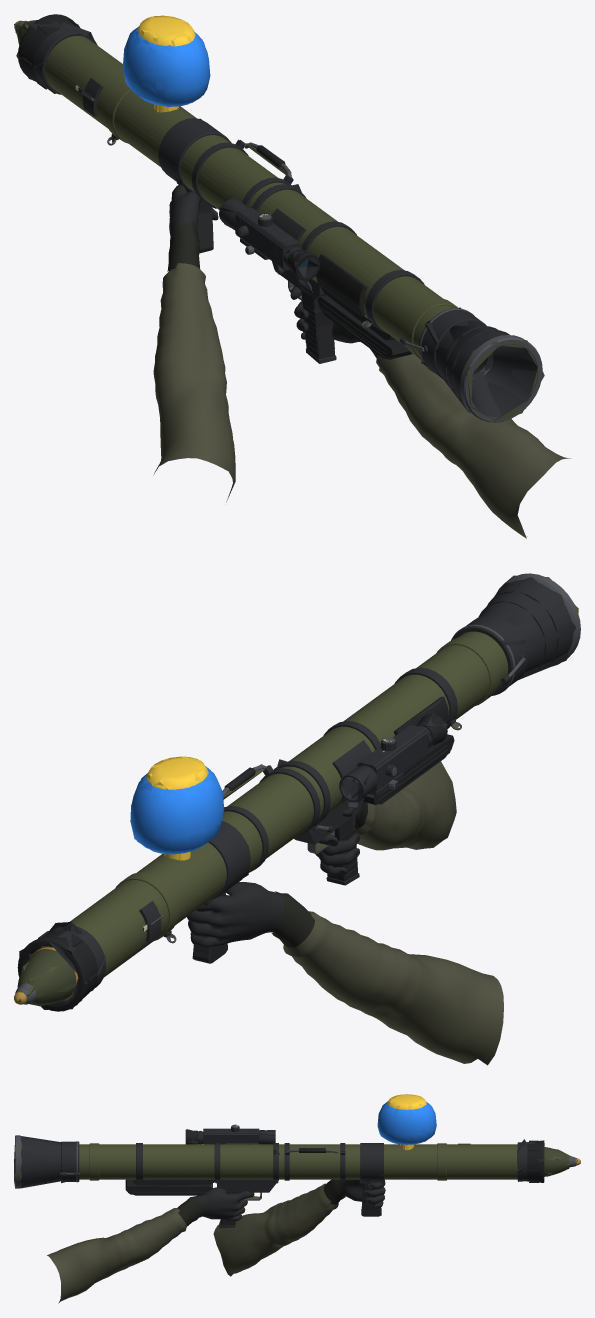
Rendered from gun-bazooka.glb.
The picture shows the model from 3 angles, top to bottom: view 1: azimuth 30°, elevation 25°; view 2: azimuth 150°, elevation 25°; view 3: azimuth 270°, elevation 25°; orthographic projection. The views are drawn at different scales.
Visible parts, largest first — view 1: bazooka_body, bazooka_far_body, bazooka_handL, bazooka_handR, bazooka_kit, bazooka_far_kit; view 2: bazooka_body, bazooka_handL, bazooka_far_body, bazooka_handR, bazooka_kit, bazooka_far_kit, bazooka_rocket; view 3: bazooka_body, bazooka_far_body, bazooka_handR, bazooka_handL, bazooka_kit, bazooka_far_kit, bazooka_rocket.
Boxes of the visible parts, <box> form: bazooka_body: <box>18,14,542,422</box>; bazooka_far_body: <box>14,20,544,421</box>; bazooka_handL: <box>153,184,235,502</box>; bazooka_handR: <box>290,279,571,538</box>; bazooka_kit: <box>123,15,210,112</box>; bazooka_far_kit: <box>123,16,209,112</box>; bazooka_body: <box>17,573,580,1011</box>; bazooka_handL: <box>187,882,503,1065</box>; bazooka_far_body: <box>15,575,578,1009</box>; bazooka_handR: <box>315,761,456,875</box>; bazooka_kit: <box>130,756,224,860</box>; bazooka_far_kit: <box>130,756,224,860</box>; bazooka_rocket: <box>14,946,78,1005</box>; bazooka_body: <box>15,1124,544,1228</box>; bazooka_far_body: <box>14,1125,580,1227</box>; bazooka_handR: <box>47,1187,254,1303</box>; bazooka_handL: <box>213,1179,385,1276</box>; bazooka_kit: <box>378,1094,435,1150</box>; bazooka_far_kit: <box>377,1094,436,1149</box>; bazooka_rocket: <box>544,1147,580,1176</box>.
Size of the model in its own units: 0.4648 by 0.5754 by 1.43.
